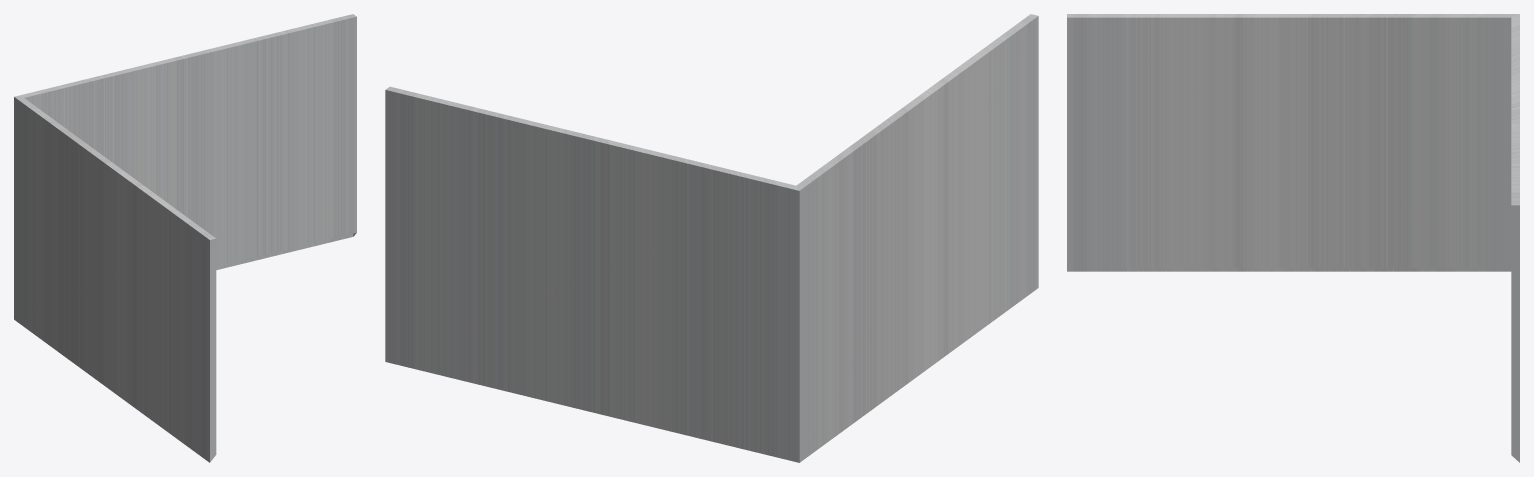
File: wall.obj
3 views of the same model, side by side, from view 1: azimuth 30°, elevation 25°; view 2: azimuth 150°, elevation 25°; view 3: azimuth 270°, elevation 25° (orthographic). The views are drawn at different scales.
Parts seen in each view (by area): view 1: Plane_Plane.001; view 2: Plane_Plane.001; view 3: Plane_Plane.001.
Boxes of the visible parts, x1,y1,x2,y2 form: Plane_Plane.001: [14, 14, 356, 462]; Plane_Plane.001: [385, 14, 1038, 462]; Plane_Plane.001: [1067, 14, 1519, 462].
Bounding box in the file's own units: 9.98 × 6.27 × 9.98.
